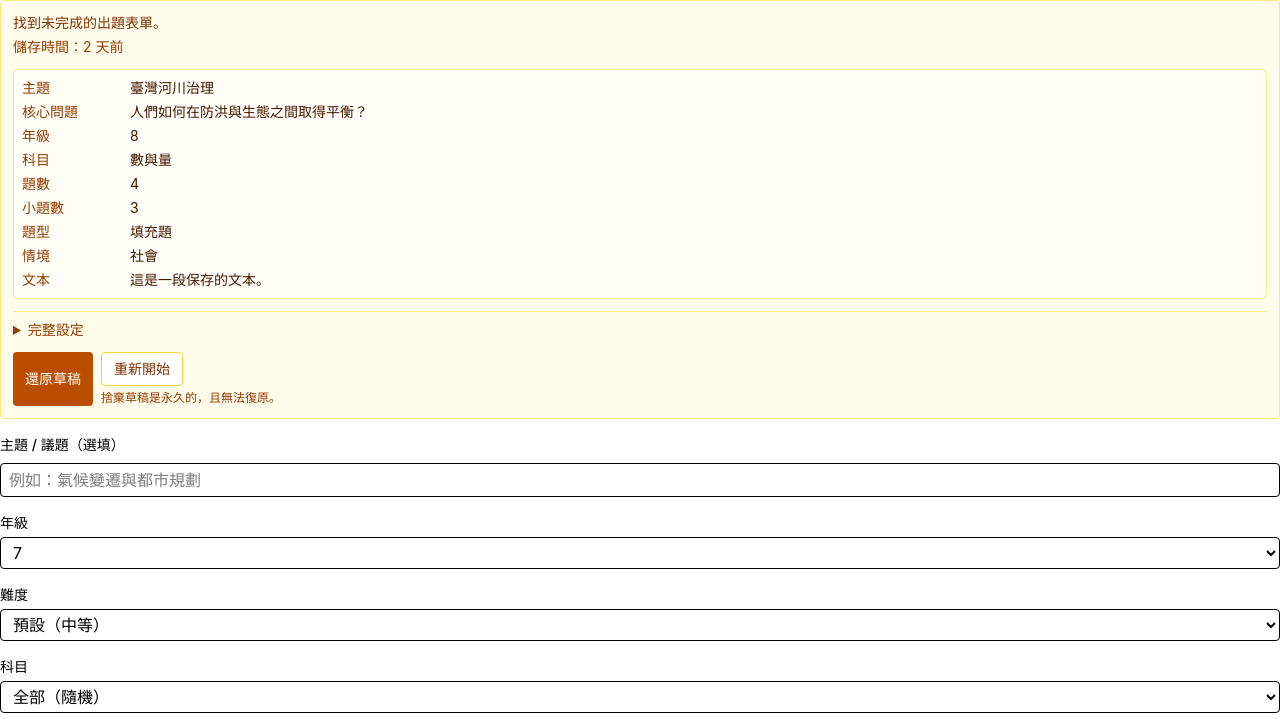
Test: ParamForm draft summary › shows a saved reporting scale in the full settings
The width and height of the screenshot is (1280, 719).
Click the heading "完整設定": click(56, 330) top-left (28, 321), bottom-right (84, 338)
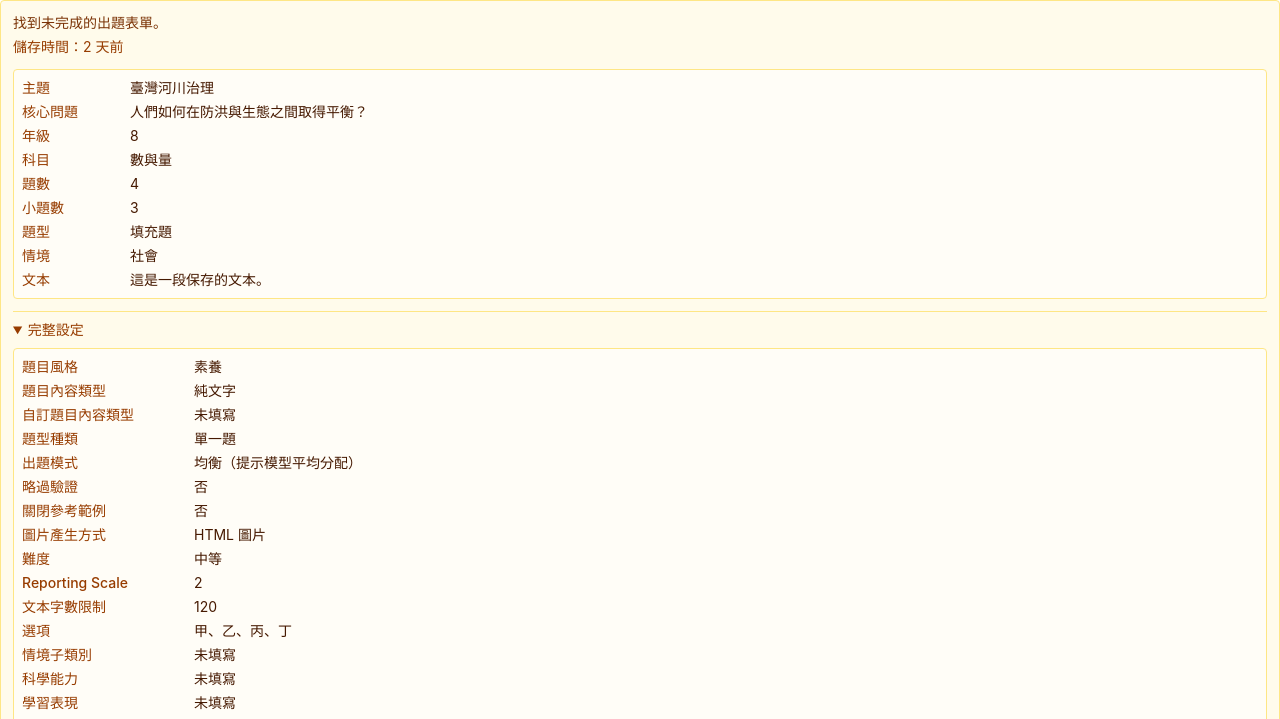
Result: the text "2" is shown at top-left (194, 574), bottom-right (202, 591)
